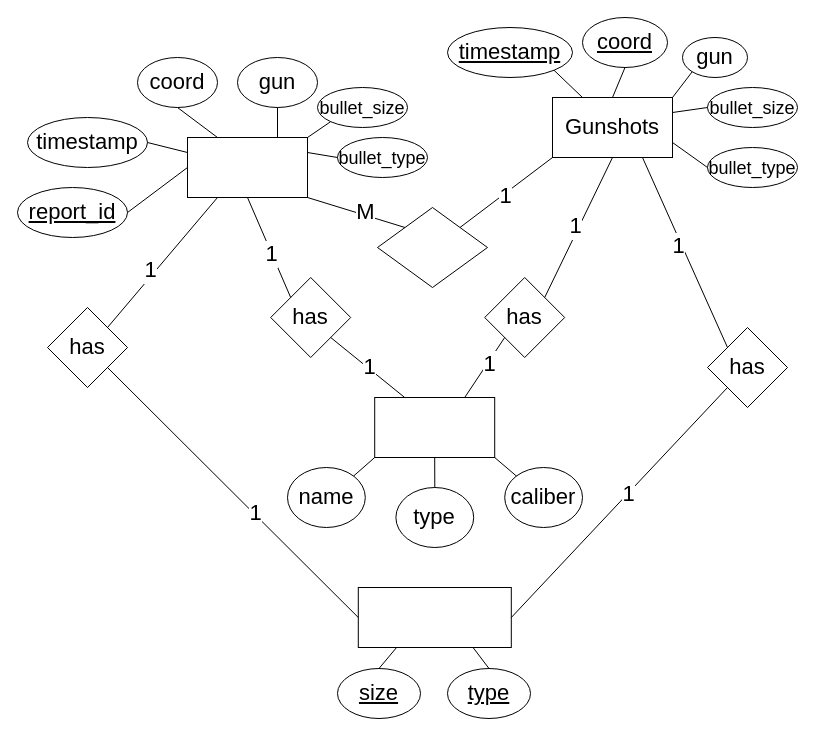
This 815x736 diagram has some shape labels left out. The box of each missing label's shape, as (x1, y1, x2, y2) in pixels:
Ammunitions: (357, 586, 511, 648)
creates: (376, 206, 488, 288)
Guns: (374, 396, 495, 458)
Reports: (186, 136, 308, 198)
